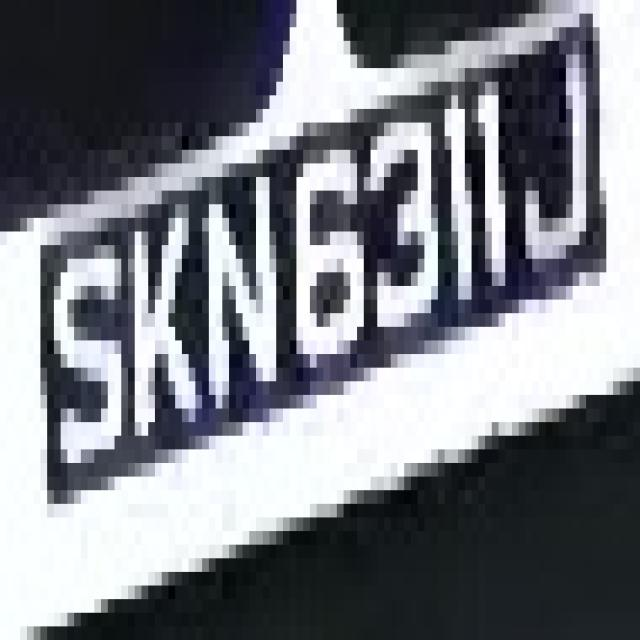1: (458, 14, 512, 381), (438, 55, 478, 354)
3: (351, 68, 452, 341)
6: (276, 95, 377, 408)
J: (519, 27, 606, 327)
K: (121, 164, 196, 476)
N: (202, 95, 283, 395)
S: (34, 191, 128, 490)
